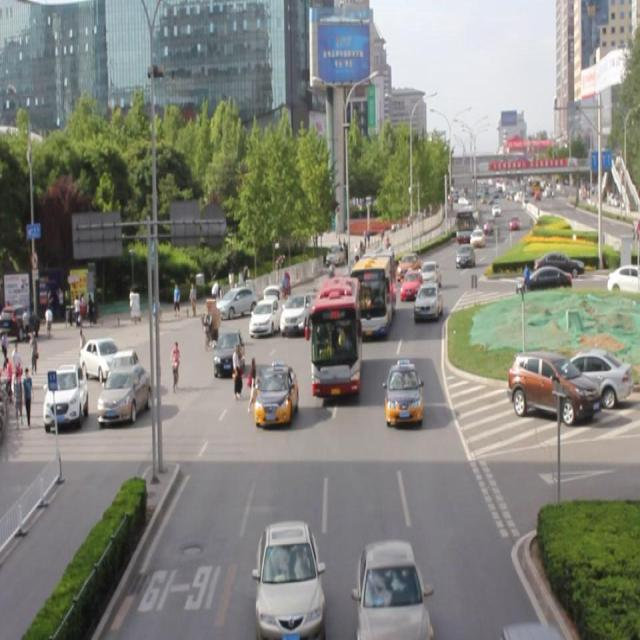car: (255, 516, 321, 640), (359, 538, 429, 640), (253, 363, 296, 424), (384, 358, 421, 422), (280, 286, 315, 336), (213, 325, 247, 373), (249, 293, 282, 334), (414, 280, 442, 320), (398, 266, 422, 298), (417, 257, 440, 289), (396, 250, 419, 277)
van: (310, 274, 358, 393), (350, 249, 392, 336)
